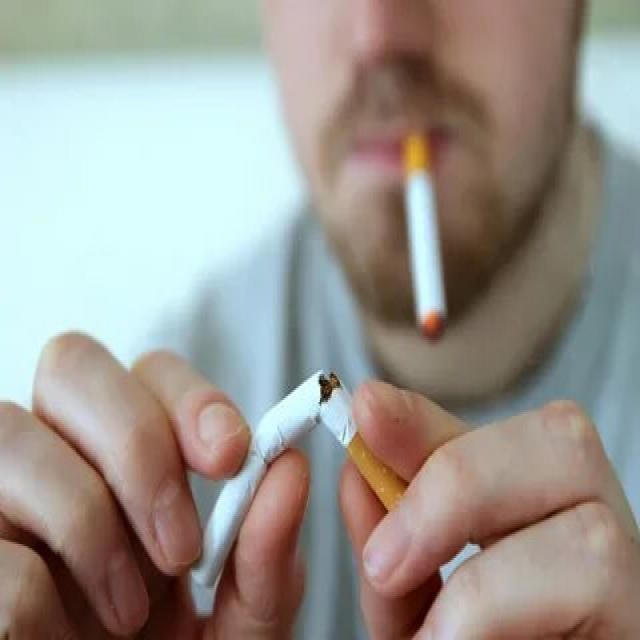smoke: (188, 362, 325, 606), (328, 374, 448, 540), (392, 128, 451, 350)
